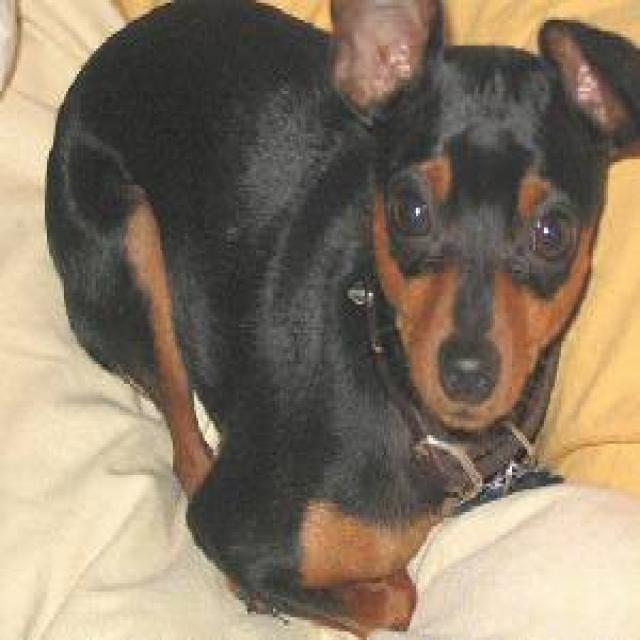dog-miniature_pinscher: (28, 3, 636, 634)
